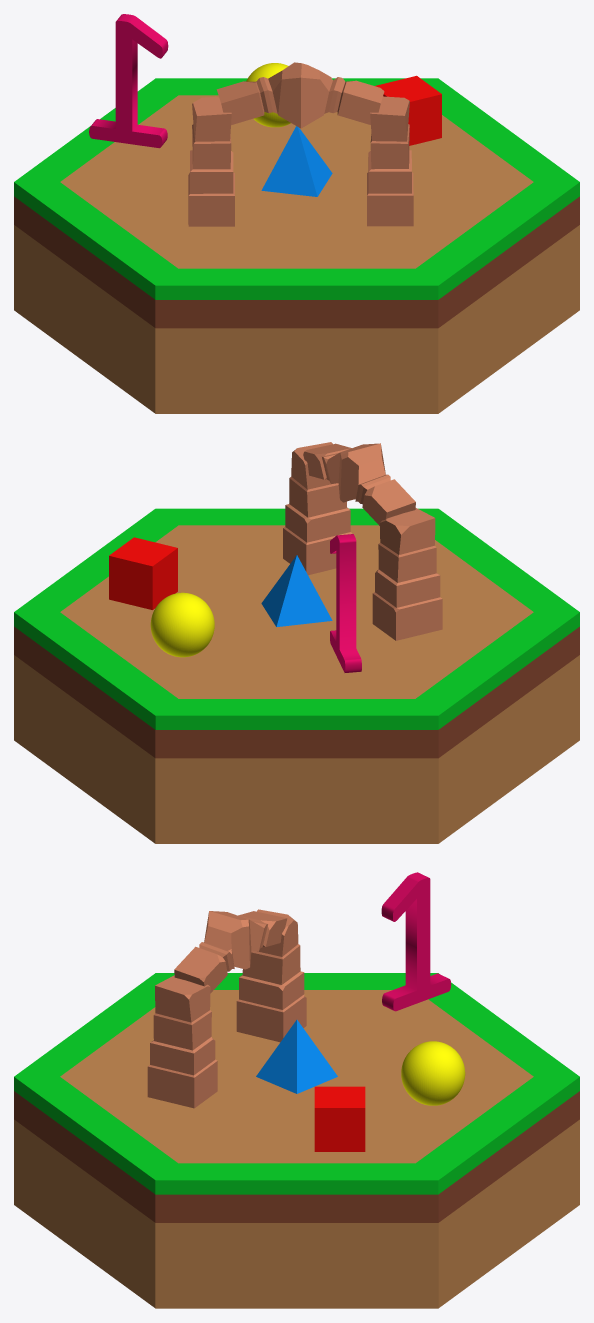
The model's file is Nivel1.fbx.
3 views of the same model, one above another, from view 1: azimuth 30°, elevation 25°; view 2: azimuth 150°, elevation 25°; view 3: azimuth 270°, elevation 25° (orthographic).
Parts seen in each view (by area): view 1: Nivel1_Geometrico, PortalPedra, Text, Triangulo, Cubo, Circulo; view 2: Nivel1_Geometrico, PortalPedra, Cubo, Circulo, Text, Triangulo; view 3: Nivel1_Geometrico, PortalPedra, Text, Cubo, Circulo, Triangulo.
Boxes of the visible parts, x1,y1,x2,y2 form: Nivel1_Geometrico: (14, 78, 579, 413); PortalPedra: (188, 62, 413, 226); Text: (89, 14, 168, 148); Triangulo: (261, 126, 332, 196); Cubo: (375, 75, 441, 145); Circulo: (246, 63, 290, 127); Nivel1_Geometrico: (14, 508, 579, 843); PortalPedra: (283, 442, 442, 640); Cubo: (109, 537, 177, 609); Circulo: (150, 592, 214, 657); Text: (330, 534, 361, 672); Triangulo: (261, 555, 332, 627); Nivel1_Geometrico: (14, 973, 579, 1308); PortalPedra: (147, 909, 306, 1108); Text: (381, 872, 451, 1011); Cubo: (314, 1086, 365, 1151); Circulo: (401, 1041, 465, 1105); Triangulo: (256, 1020, 337, 1093).
Bounding box in the file's own units: 173 × 200 × 107.
